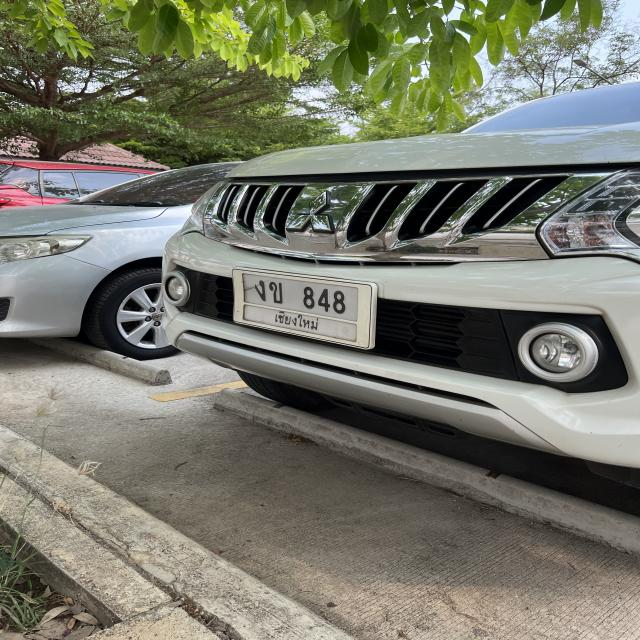license_plate: (229, 266, 377, 354)
